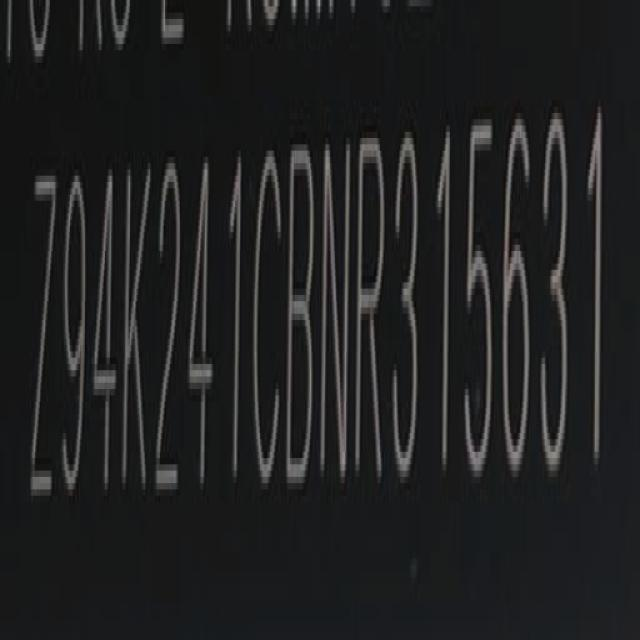1: (580, 88, 610, 465), (224, 150, 247, 498), (434, 123, 454, 492)
2: (153, 157, 183, 506)
3: (544, 111, 574, 480), (394, 127, 424, 489)
4: (190, 153, 218, 501), (94, 164, 120, 507)
5: (462, 112, 493, 484)
6: (503, 110, 535, 480)
9: (62, 170, 90, 514)
B: (289, 137, 319, 494)
C: (253, 147, 284, 492)
K: (122, 162, 151, 504)
N: (321, 129, 352, 490)
R: (355, 127, 388, 489)
Z: (27, 168, 57, 524)
